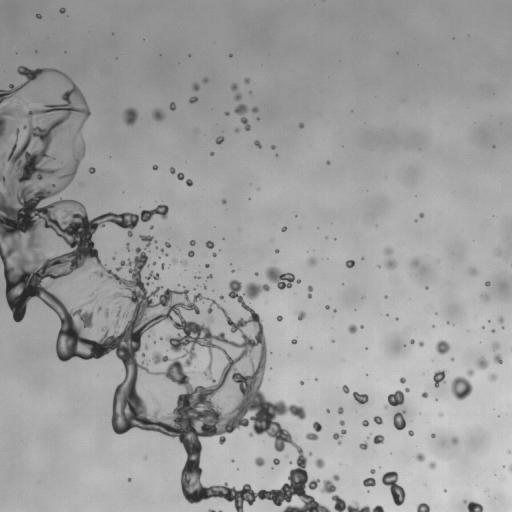droplet: (265, 266, 294, 289), (451, 376, 472, 400), (387, 390, 404, 406), (123, 108, 137, 125), (393, 411, 405, 430), (433, 370, 446, 387), (435, 340, 449, 354), (333, 429, 346, 444), (353, 392, 368, 404), (140, 235, 153, 248), (152, 109, 164, 120), (477, 357, 488, 369), (363, 477, 375, 486), (417, 502, 429, 511), (146, 271, 159, 279), (373, 435, 384, 444), (493, 353, 502, 363), (255, 456, 264, 466), (315, 458, 324, 468), (348, 324, 357, 333), (205, 240, 214, 248), (373, 416, 382, 424), (416, 453, 425, 461), (189, 96, 198, 103), (307, 258, 316, 265), (345, 260, 354, 267), (298, 311, 305, 320), (492, 342, 499, 351), (192, 83, 199, 91), (216, 136, 223, 144), (177, 172, 184, 180), (342, 385, 349, 393), (359, 442, 367, 449), (429, 461, 436, 469), (254, 140, 261, 147), (186, 179, 193, 186), (411, 259, 418, 266), (467, 369, 474, 376), (451, 437, 458, 444), (488, 374, 496, 380), (231, 83, 237, 90), (235, 93, 241, 100), (188, 250, 194, 257), (470, 268, 477, 274), (337, 407, 343, 414), (362, 420, 369, 426), (333, 474, 339, 481), (170, 102, 175, 110), (103, 309, 108, 317), (89, 167, 95, 173), (482, 294, 488, 300), (273, 458, 279, 464), (59, 8, 65, 13), (252, 107, 258, 112), (170, 167, 175, 173), (277, 315, 282, 321), (400, 377, 405, 383), (421, 392, 427, 397), (408, 430, 413, 436), (244, 78, 249, 83), (152, 165, 157, 170), (281, 226, 286, 231), (190, 240, 195, 245), (165, 242, 170, 247), (485, 281, 490, 286), (291, 339, 296, 344), (339, 420, 344, 425), (499, 317, 503, 323), (36, 14, 41, 18), (299, 123, 303, 128), (15, 129, 19, 134), (234, 128, 239, 132), (222, 199, 226, 204), (419, 212, 423, 217), (207, 274, 212, 278), (97, 306, 101, 311), (419, 341, 423, 346), (370, 469, 375, 473), (203, 78, 207, 82), (271, 145, 275, 149), (0, 155, 4, 159), (212, 252, 216, 256), (172, 259, 176, 263), (182, 260, 186, 264), (296, 279, 300, 283), (325, 305, 329, 309), (410, 339, 414, 343), (405, 388, 409, 392), (431, 433, 435, 437), (161, 263, 164, 268), (160, 249, 164, 252), (275, 249, 278, 253), (225, 112, 228, 115), (326, 161, 329, 164), (206, 264, 209, 267), (255, 272, 258, 275), (220, 296, 223, 299), (360, 325, 363, 328), (300, 381, 303, 384), (326, 409, 329, 412), (195, 276, 199, 278), (211, 152, 213, 155), (150, 226, 153, 228), (112, 257, 115, 259), (152, 262, 155, 264), (232, 269, 234, 272), (204, 285, 206, 288), (334, 309, 336, 312), (492, 329, 494, 332), (142, 353, 144, 356), (451, 358, 454, 360), (231, 459, 233, 462), (128, 479, 131, 481), (18, 113, 20, 115), (34, 143, 36, 145)
ligament: (0, 66, 331, 511), (320, 479, 384, 511), (382, 471, 405, 505), (0, 106, 15, 138), (234, 104, 250, 130), (306, 421, 321, 440), (384, 247, 396, 269), (465, 501, 483, 511), (86, 296, 96, 304), (307, 286, 313, 298), (114, 292, 123, 297), (126, 243, 129, 250), (509, 464, 511, 471), (208, 509, 215, 511)
